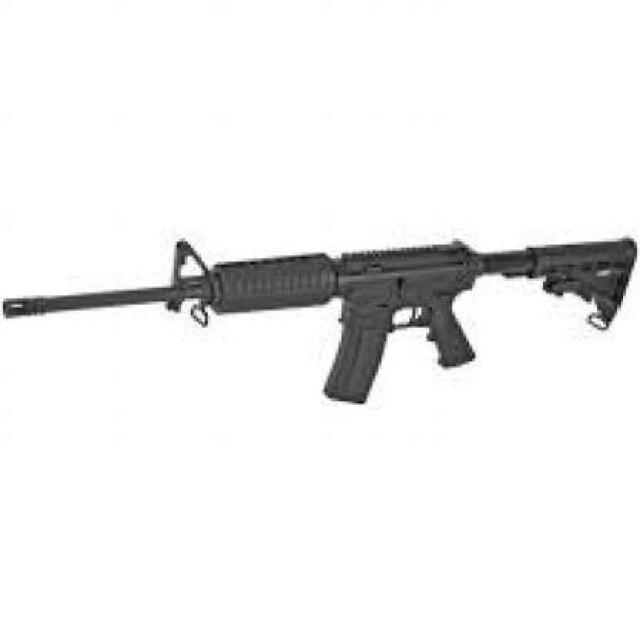weapon: (0, 229, 640, 418)
